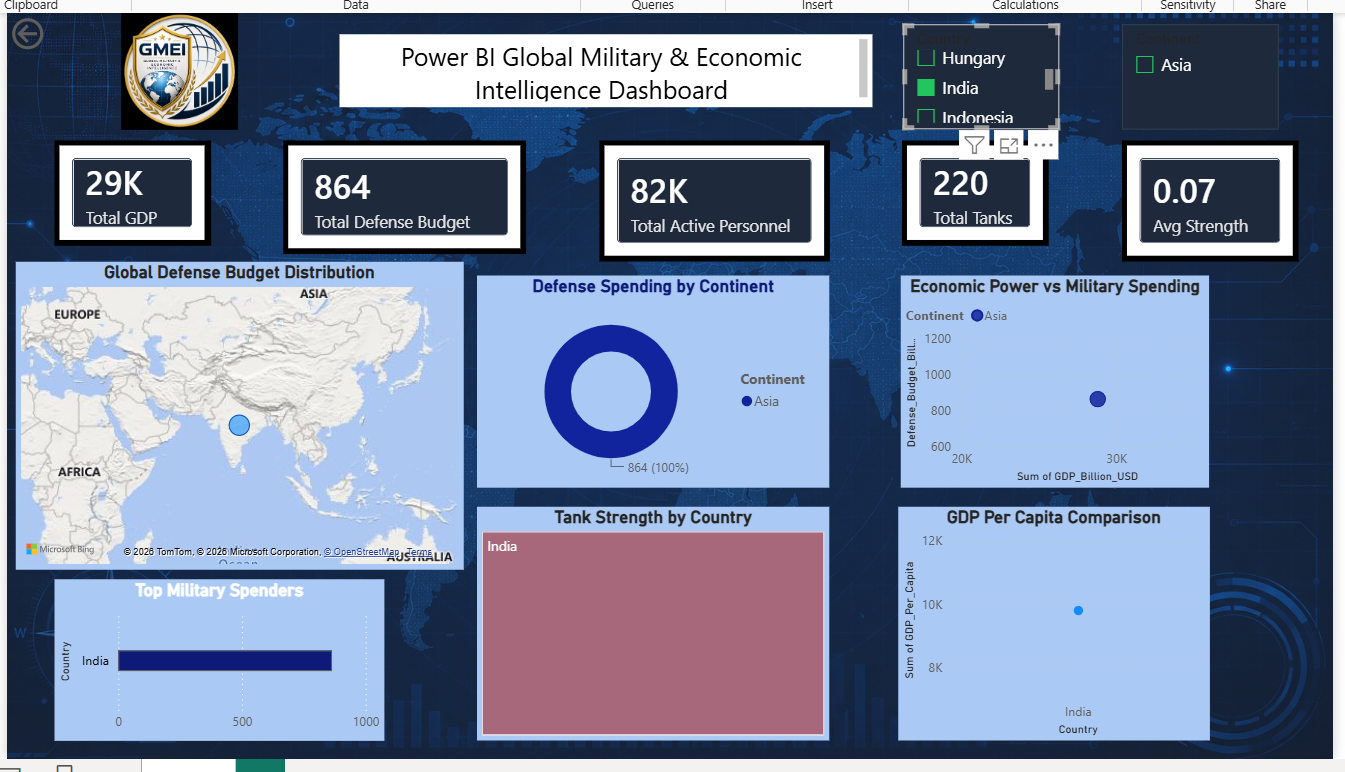

Layout of this report page (visuals, bound fields, positions):
{"tool":"powerbi","page":{"name":"Page 1","canvas":[1280,720],"ordinal":0},"visuals":[{"type":"cardVisual","fields":{"Data":["Military_Economy_Data.Total GDP"]},"box":[45.3,123.5,150.9,101.5],"z":0},{"type":"cardVisual","fields":{"Data":["Military_Economy_Data.Total Defense Budget"]},"box":[266.2,123.5,234.6,109.8],"z":1000},{"type":"cardVisual","fields":{"Data":["Military_Economy_Data.Total Active Personnel"]},"box":[571.5,123.5,222.3,116.6],"z":2000},{"type":"cardVisual","fields":{"Data":["Military_Economy_Data.Total Tanks"]},"box":[864.2,123.5,141.3,101.5],"z":3000},{"type":"cardVisual","fields":{"Data":["Military_Economy_Data.Avg Strength"]},"box":[1075.8,123.5,170.2,116.6],"z":4000},{"type":"slicer","fields":{"Values":["Military_Economy_Data.Country"]},"box":[864.5,11,150.9,101.5],"z":5000},{"type":"slicer","fields":{"Values":["Military_Economy_Data.Continent"]},"box":[1075.8,11,150.9,101.5],"z":6000},{"type":"map","title":"Global Defense Budget Distribution","fields":{"Category":["Military_Economy_Data.Country"],"Size":["Sum(Military_Economy_Data.Defense_Budget_Billion_USD)"]},"box":[45.3,240.1,318.4,296.4],"z":7000},{"type":"actionButton","box":[0,0,100,40],"z":8000},{"type":"donutChart","title":"Defense Spending by Continent","fields":{"Category":["Military_Economy_Data.Continent"],"Y":["Sum(Military_Economy_Data.Defense_Budget_Billion_USD)"]},"box":[453.6,253.4,340.2,205.1],"z":9000},{"type":"barChart","title":"Top Military Spenders","fields":{"Category":["Military_Economy_Data.Country"],"Y":["Sum(Military_Economy_Data.Defense_Budget_Billion_USD)"]},"box":[45.8,546.5,318.5,173.7],"z":10000},{"type":"treemap","title":"Tank Strength by Country","fields":{"Group":["Military_Economy_Data.Country"],"Values":["Sum(Military_Economy_Data.Tanks)"]},"box":[453.6,476.5,340.2,225.6],"z":11000},{"type":"scatterChart","title":"Economic Power vs Military Spending","fields":{"X":["Sum(Military_Economy_Data.GDP_Billion_USD)"],"Y":["Military_Economy_Data.Defense_Budget_Billion_USD"],"Size":["Sum(Military_Economy_Data.Active_Personnel)"],"Series":["Military_Economy_Data.Continent"]},"box":[862.6,253.4,298,205.1],"z":12000},{"type":"lineChart","title":"GDP Per Capita Comparison","fields":{"Category":["Military_Economy_Data.Country"],"Y":["Sum(Military_Economy_Data.GDP_Per_Capita)"]},"box":[860.2,476.5,300.4,225.6],"z":13000},{"type":"textbox","box":[321.4,20,514.3,70],"z":14000},{"type":"image","box":[37.1,0,258.6,112.9],"z":15000}]}

Visuals, with their boxes in screenshot pixels (x1, y1, x2, y2):
cardVisual - Military_Economy_Data.Total GDP: l=50, t=135, r=207, b=240
cardVisual - Military_Economy_Data.Total Defense Budget: l=279, t=135, r=522, b=249
cardVisual - Military_Economy_Data.Total Active Personnel: l=596, t=135, r=826, b=256
cardVisual - Military_Economy_Data.Total Tanks: l=899, t=135, r=1045, b=240
cardVisual - Military_Economy_Data.Avg Strength: l=1118, t=135, r=1295, b=256
slicer - Military_Economy_Data.Country: l=899, t=18, r=1056, b=124
slicer - Military_Economy_Data.Continent: l=1118, t=18, r=1275, b=124
"Global Defense Budget Distribution" map: l=50, t=256, r=380, b=563
actionButton: l=4, t=7, r=107, b=48
"Defense Spending by Continent" donutChart: l=474, t=270, r=826, b=482
"Top Military Spenders" barChart: l=51, t=573, r=381, b=753
"Tank Strength by Country" treemap: l=474, t=501, r=826, b=735
"Economic Power vs Military Spending" scatterChart: l=897, t=270, r=1206, b=482
"GDP Per Capita Comparison" lineChart: l=895, t=501, r=1206, b=735
textbox: l=337, t=28, r=869, b=100
image: l=42, t=7, r=310, b=124
